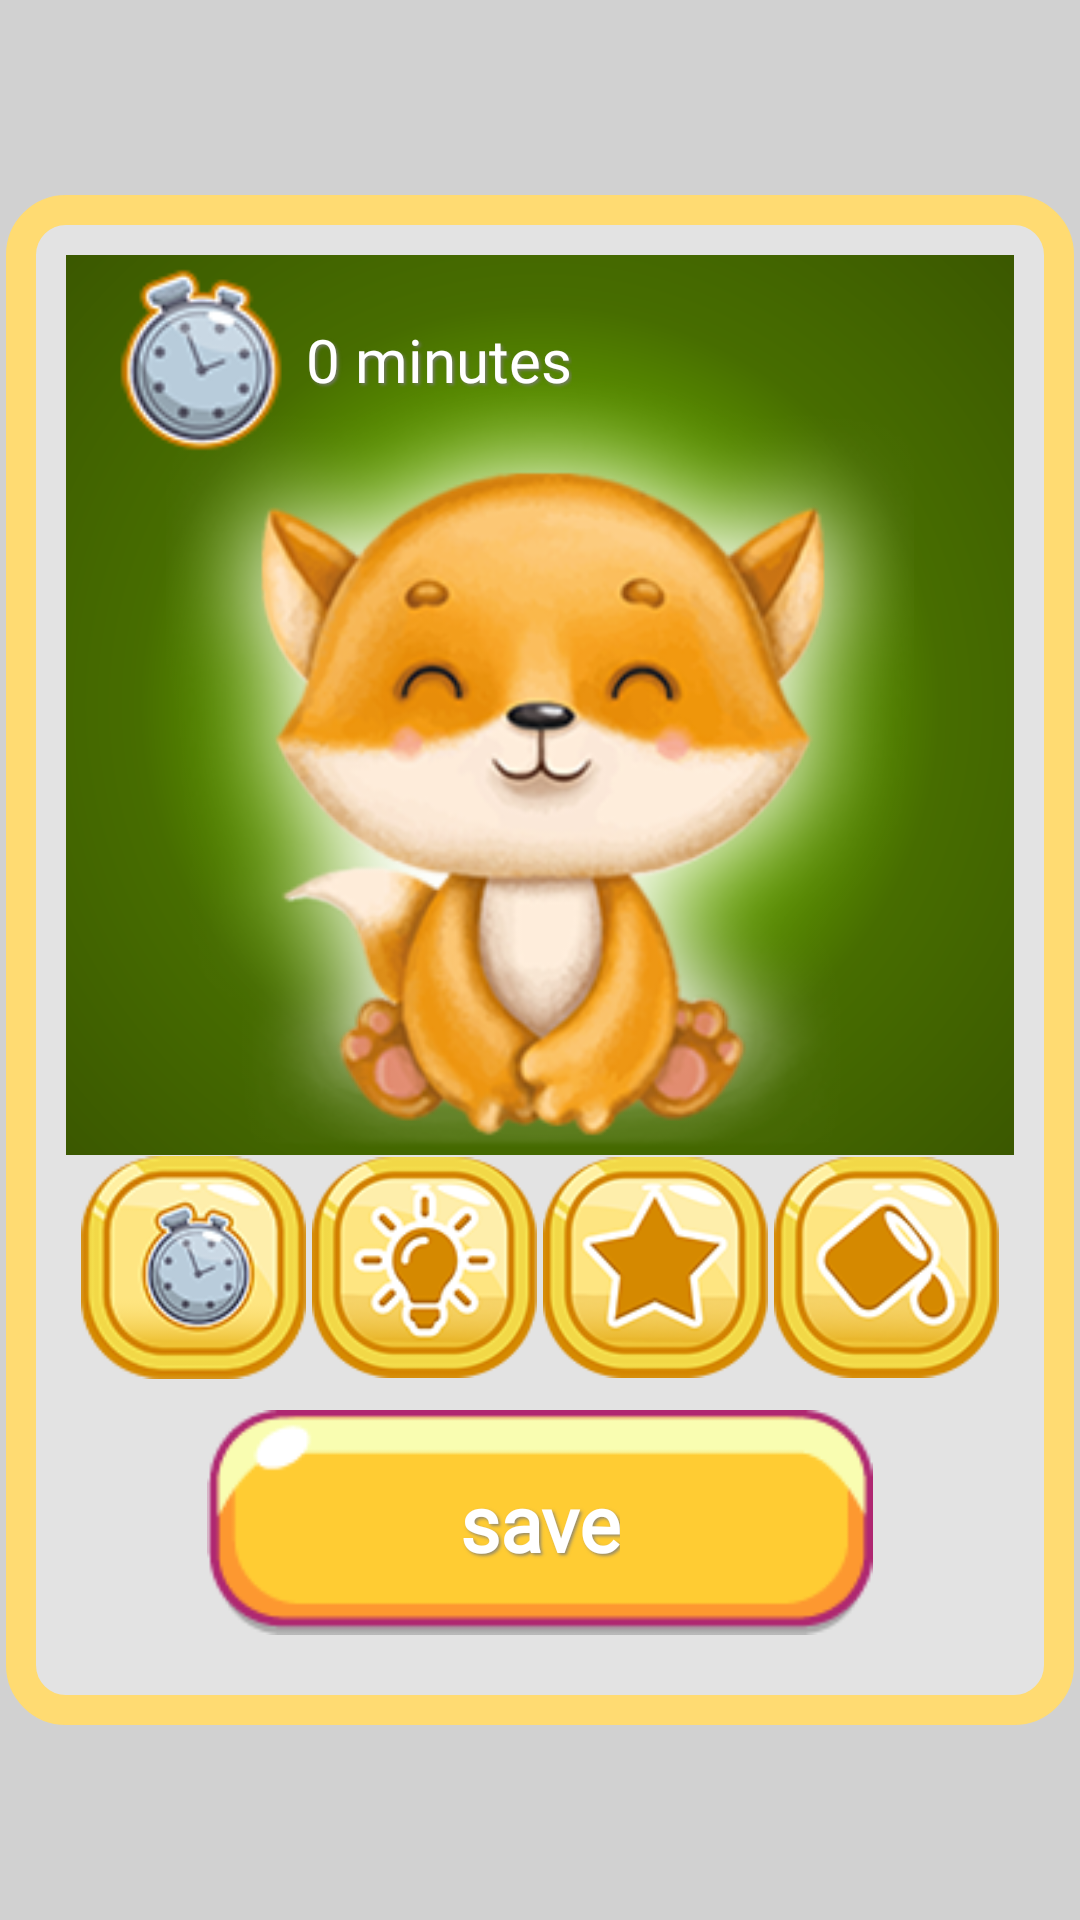

Named icons in this screenshot (1080px x 1920px) and their centers, (x=x, y=y):
colors: (x=886, y=1267)
lamp: (x=424, y=1267)
star: (x=655, y=1267)
timer: (x=201, y=360), (x=193, y=1267)
